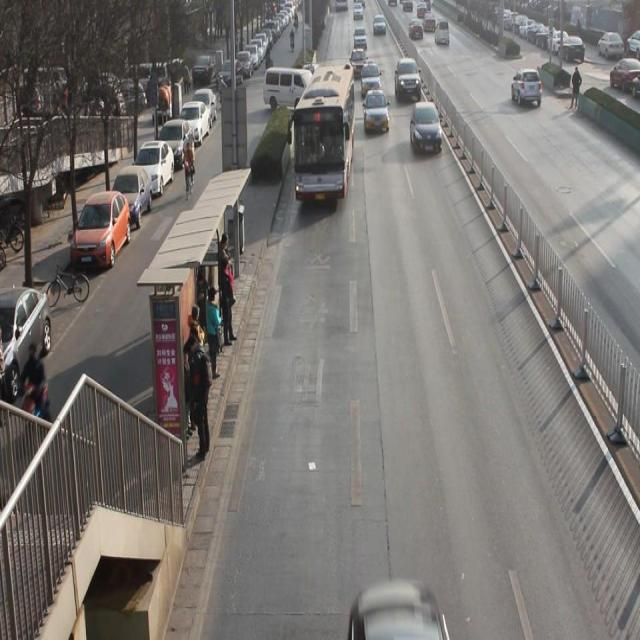car: (411, 105, 444, 158), (512, 69, 543, 110), (394, 59, 419, 105), (360, 65, 380, 97), (304, 62, 321, 94), (350, 51, 369, 79), (353, 30, 367, 51), (410, 20, 423, 42), (372, 17, 387, 36)
truck: (361, 95, 389, 135), (434, 22, 450, 47)
van: (294, 67, 354, 202)
